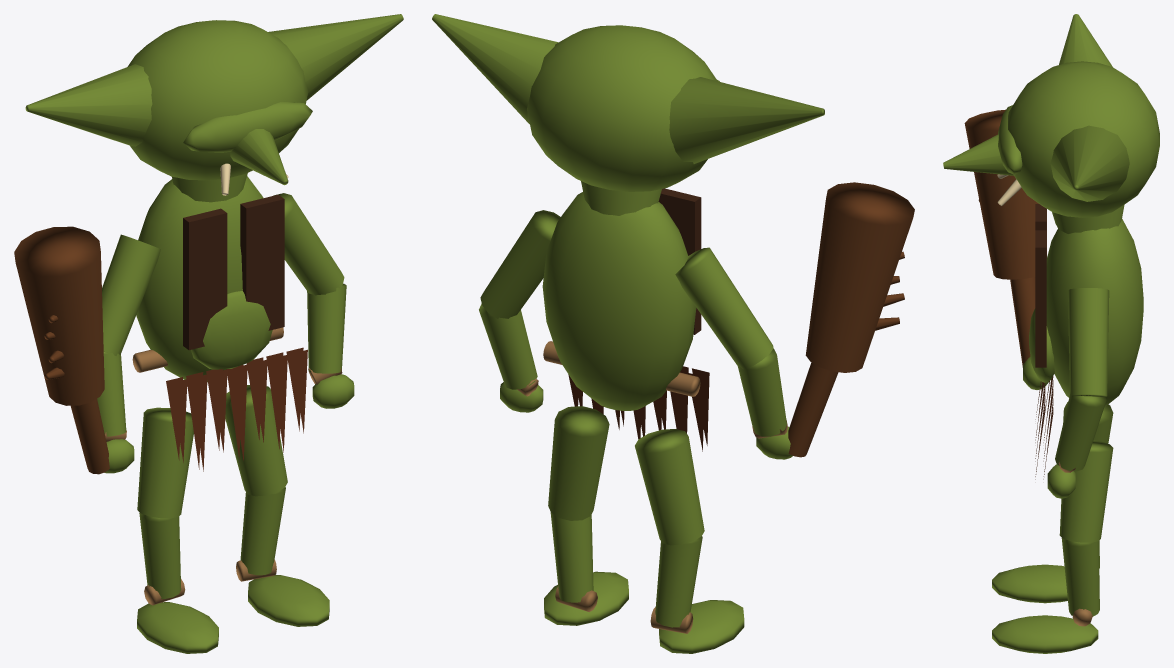
Rendered from goblin-club-blockout.obj.
The picture shows the model from 3 angles, left to right: view 1: azimuth 30°, elevation 25°; view 2: azimuth 150°, elevation 25°; view 3: azimuth 270°, elevation 25°; orthographic projection. The views are drawn at different scales.
Parts seen in each view (by area): view 1: head, club_head, torso, left_ear_outer, left_vest_panel, right_vest_panel, left_thigh, right_ear_outer, left_upper_arm, belly, right_thigh, brow (+20 smaller); view 2: torso, head, club_head, left_ear_outer, left_thigh, right_thigh, right_ear_outer, left_upper_arm, right_upper_arm, left_shin, right_shin, left_foot (+10 smaller); view 3: head, torso, club_head, right_ear_outer, right_upper_arm, right_thigh, right_foot, right_forearm, right_shin, left_foot, right_vest_panel, hooked_nose (+8 smaller).
Part boxes in pixels (x1,y1,x2,y2): head: (127, 20, 308, 180); club_head: (14, 226, 104, 405); torso: (136, 176, 263, 382); left_ear_outer: (25, 64, 152, 146); left_vest_panel: (183, 208, 227, 350); right_vest_panel: (240, 194, 284, 330); left_thigh: (137, 407, 193, 518); right_ear_outer: (268, 14, 403, 100); left_upper_arm: (102, 234, 160, 355); belly: (191, 291, 272, 369); right_thigh: (225, 385, 287, 496); brow: (183, 102, 312, 152); torso: (542, 192, 696, 410); head: (527, 25, 717, 191); club_head: (805, 182, 914, 372); left_ear_outer: (669, 77, 824, 163); left_thigh: (635, 429, 704, 545); right_thigh: (548, 406, 609, 520); right_ear_outer: (432, 14, 558, 124); left_upper_arm: (675, 247, 773, 369); right_upper_arm: (480, 210, 560, 318); left_shin: (655, 536, 702, 627); right_shin: (550, 512, 593, 602); left_foot: (659, 600, 744, 653); head: (1008, 61, 1159, 217); torso: (1046, 219, 1143, 406); club_head: (964, 109, 1046, 279); right_ear_outer: (1050, 125, 1129, 201); right_upper_arm: (1068, 288, 1109, 396); right_thigh: (1059, 440, 1113, 542); right_foot: (992, 615, 1098, 653); right_forearm: (1055, 392, 1106, 471); right_shin: (1061, 538, 1099, 616); left_foot: (992, 564, 1067, 603); right_vest_panel: (1035, 230, 1046, 367); hooked_nose: (943, 134, 1013, 175).
Size of the model in its own units: 2.2 by 2.93 by 1.05.
